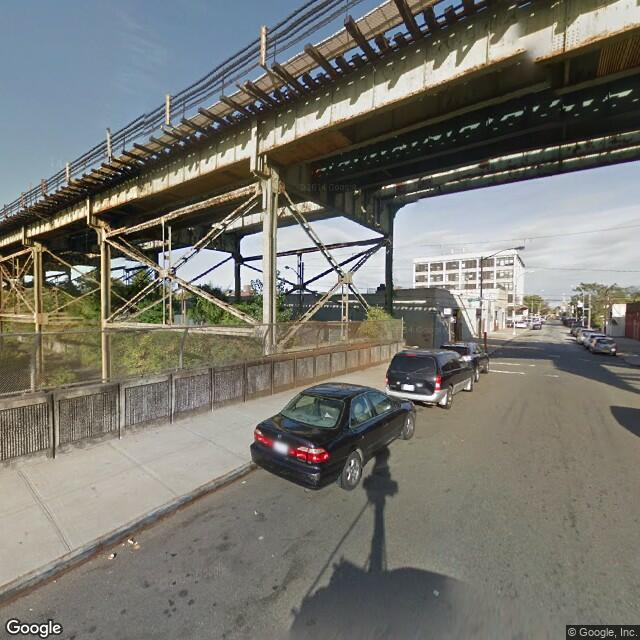litter: (436, 587, 444, 601), (109, 552, 120, 562), (127, 537, 137, 546), (255, 511, 261, 515), (242, 480, 247, 482)
